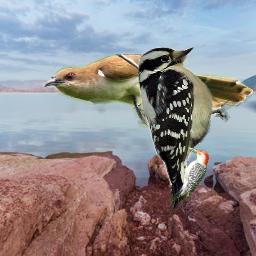Cuckoo: (43, 54, 255, 128)
Woodpecker: (135, 43, 239, 213), (167, 145, 209, 205)
